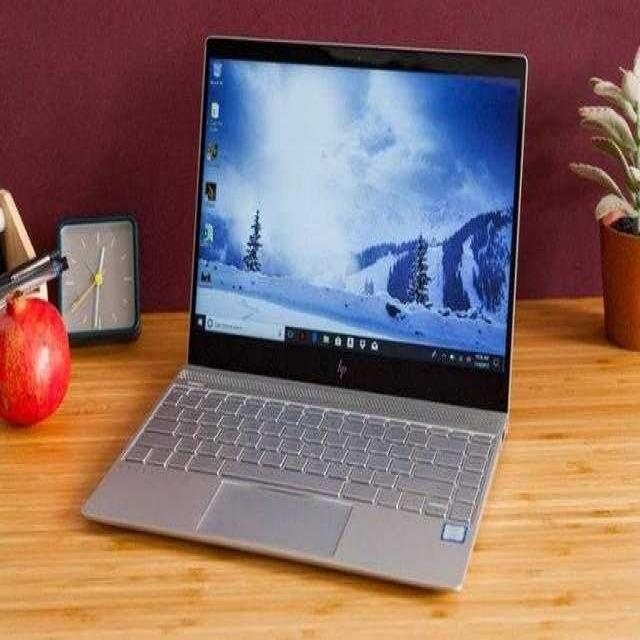laptop: (94, 35, 529, 581)
